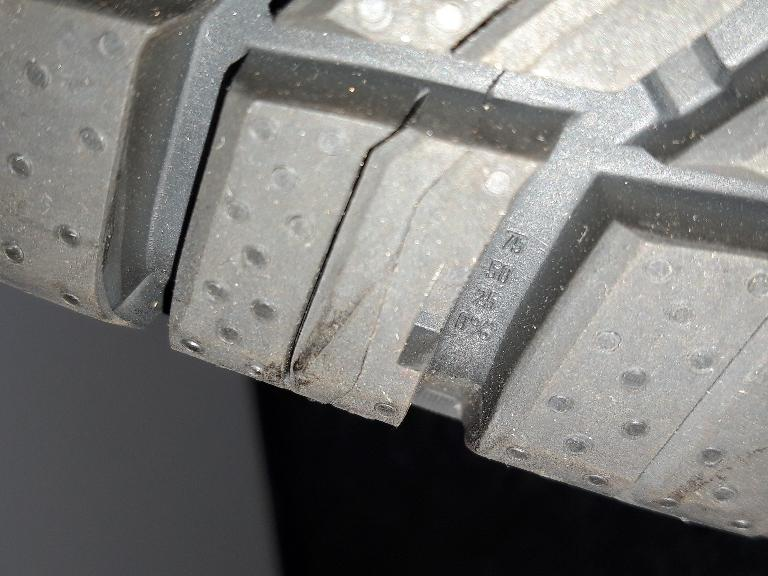temoin:100: (398, 239, 482, 375)
